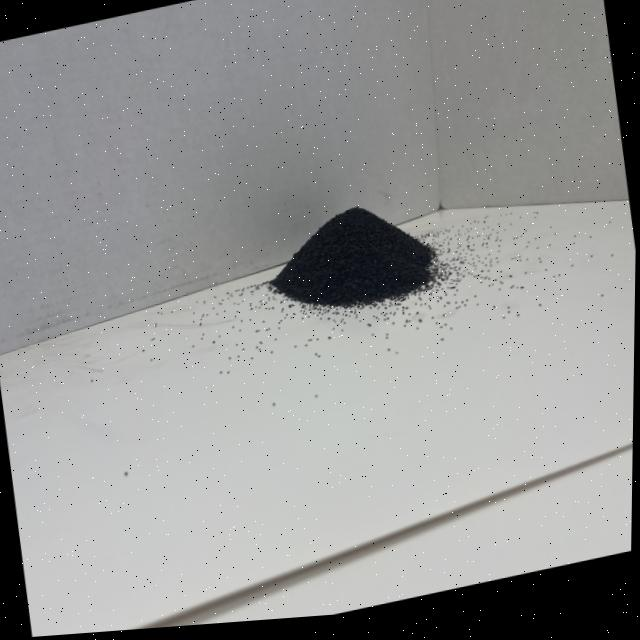Poppy Seeds: (261, 159, 463, 342)
